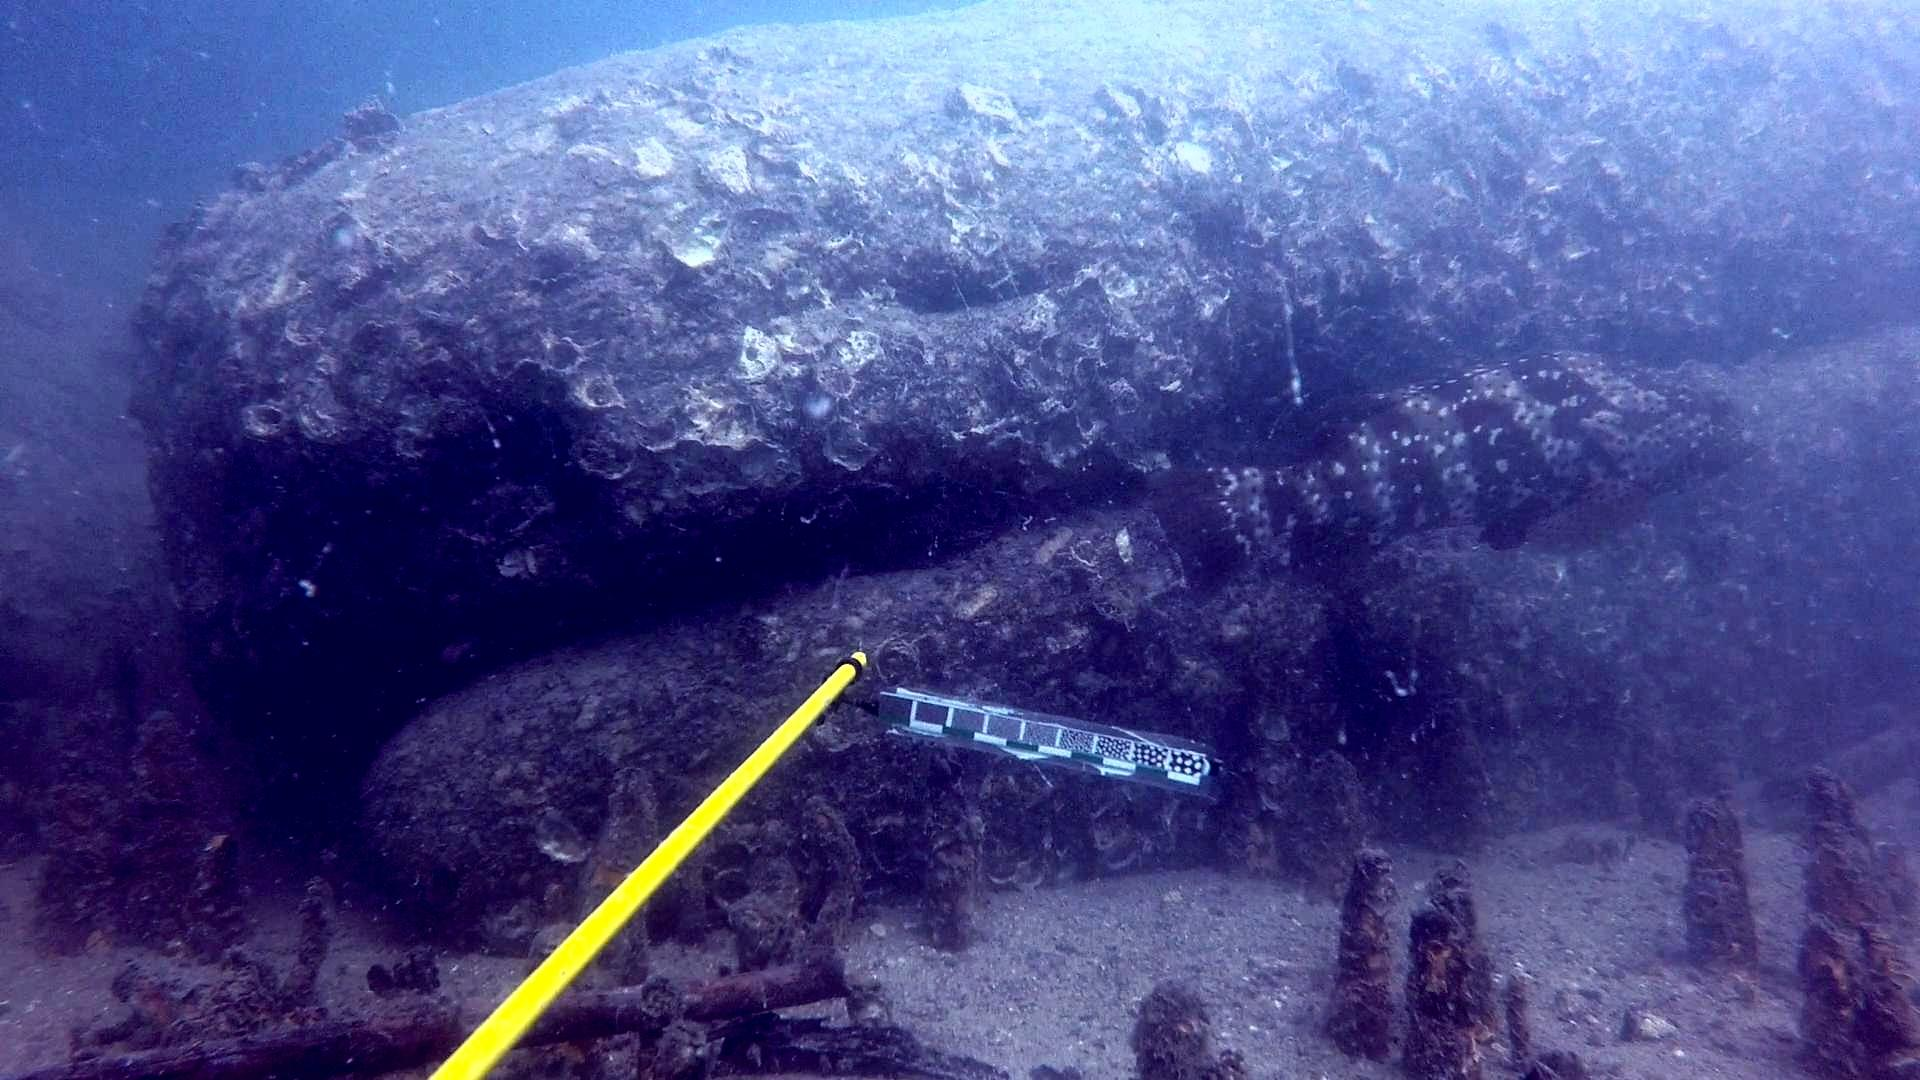epinephelus: (1140, 344, 1778, 611)
